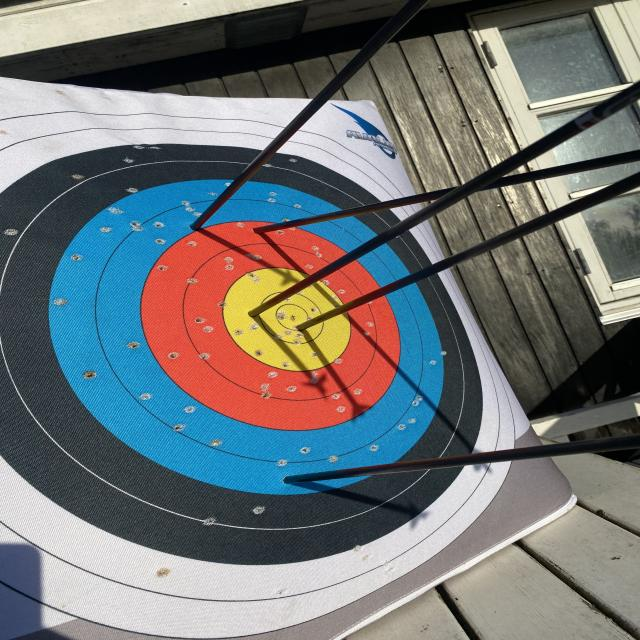Arrow_Blue: (262, 466, 306, 490), (179, 210, 215, 237)
Arrow_Red: (243, 214, 273, 242)
Arrow_Yellow: (284, 312, 322, 346), (240, 300, 269, 326)
